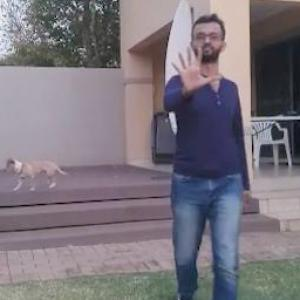follow_hand: (166, 41, 224, 100)
